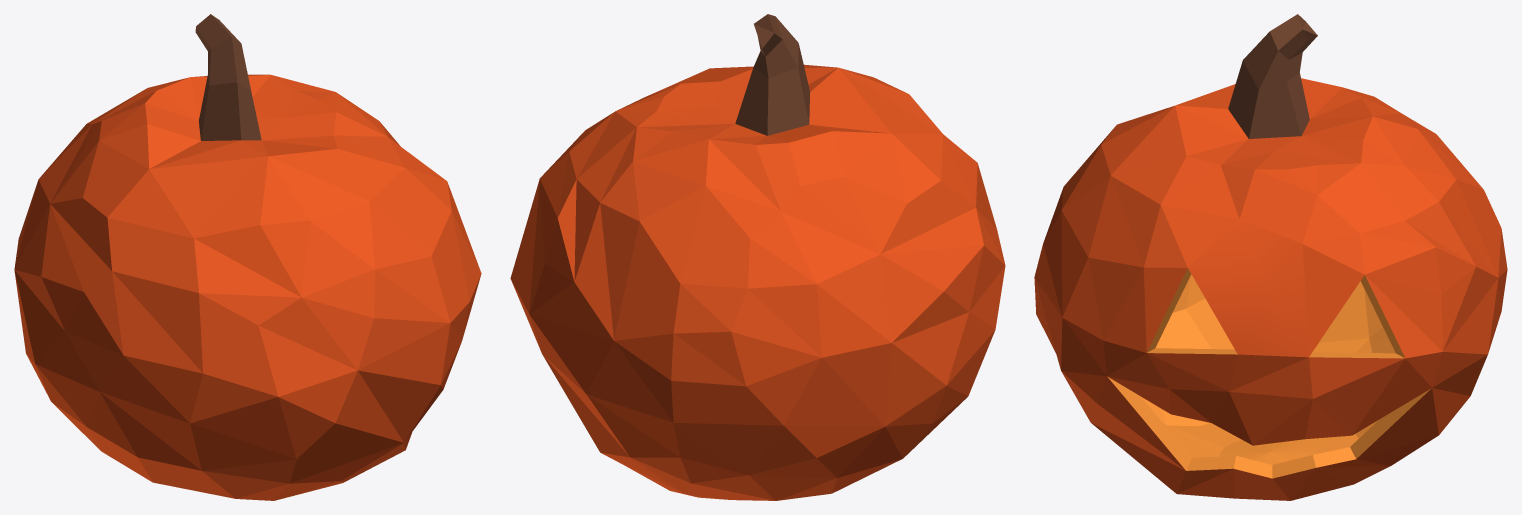
File: jackOLantern.fbx
The picture shows the model from 3 angles, left to right: view 1: azimuth 30°, elevation 25°; view 2: azimuth 150°, elevation 25°; view 3: azimuth 270°, elevation 25°; orthographic projection. The views are drawn at different scales.
Visible parts, largest first — view 1: jackOLantern; view 2: jackOLantern; view 3: jackOLantern.
Boxes of the visible parts, x1,y1,x2,y2 form: jackOLantern: (14, 14, 481, 500); jackOLantern: (510, 14, 1005, 500); jackOLantern: (1034, 14, 1507, 500).
Bounding box in the file's own units: 1.81 × 1.97 × 1.96.
